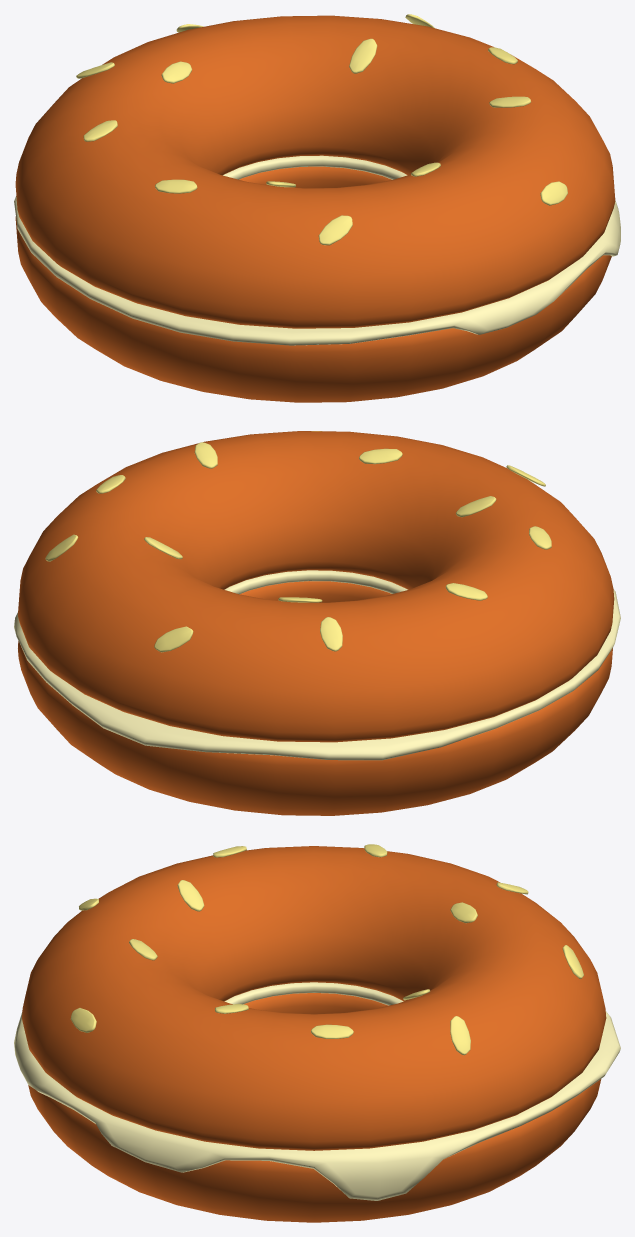
File: Bagel.fbx
3 renders of one model, top to bottom at view 1: azimuth 30°, elevation 25°; view 2: azimuth 150°, elevation 25°; view 3: azimuth 270°, elevation 25°, orthographic. The views are drawn at different scales.
Visible parts, largest first — view 1: Bagel; view 2: Bagel; view 3: Bagel.
Boxes of the visible parts, x1=… form: Bagel: x1=14, y1=14, x2=620, y2=402; Bagel: x1=14, y1=431, x2=620, y2=815; Bagel: x1=14, y1=844, x2=620, y2=1222.
Bounding box in the file's own units: 16.81 × 6.25 × 17.25.
